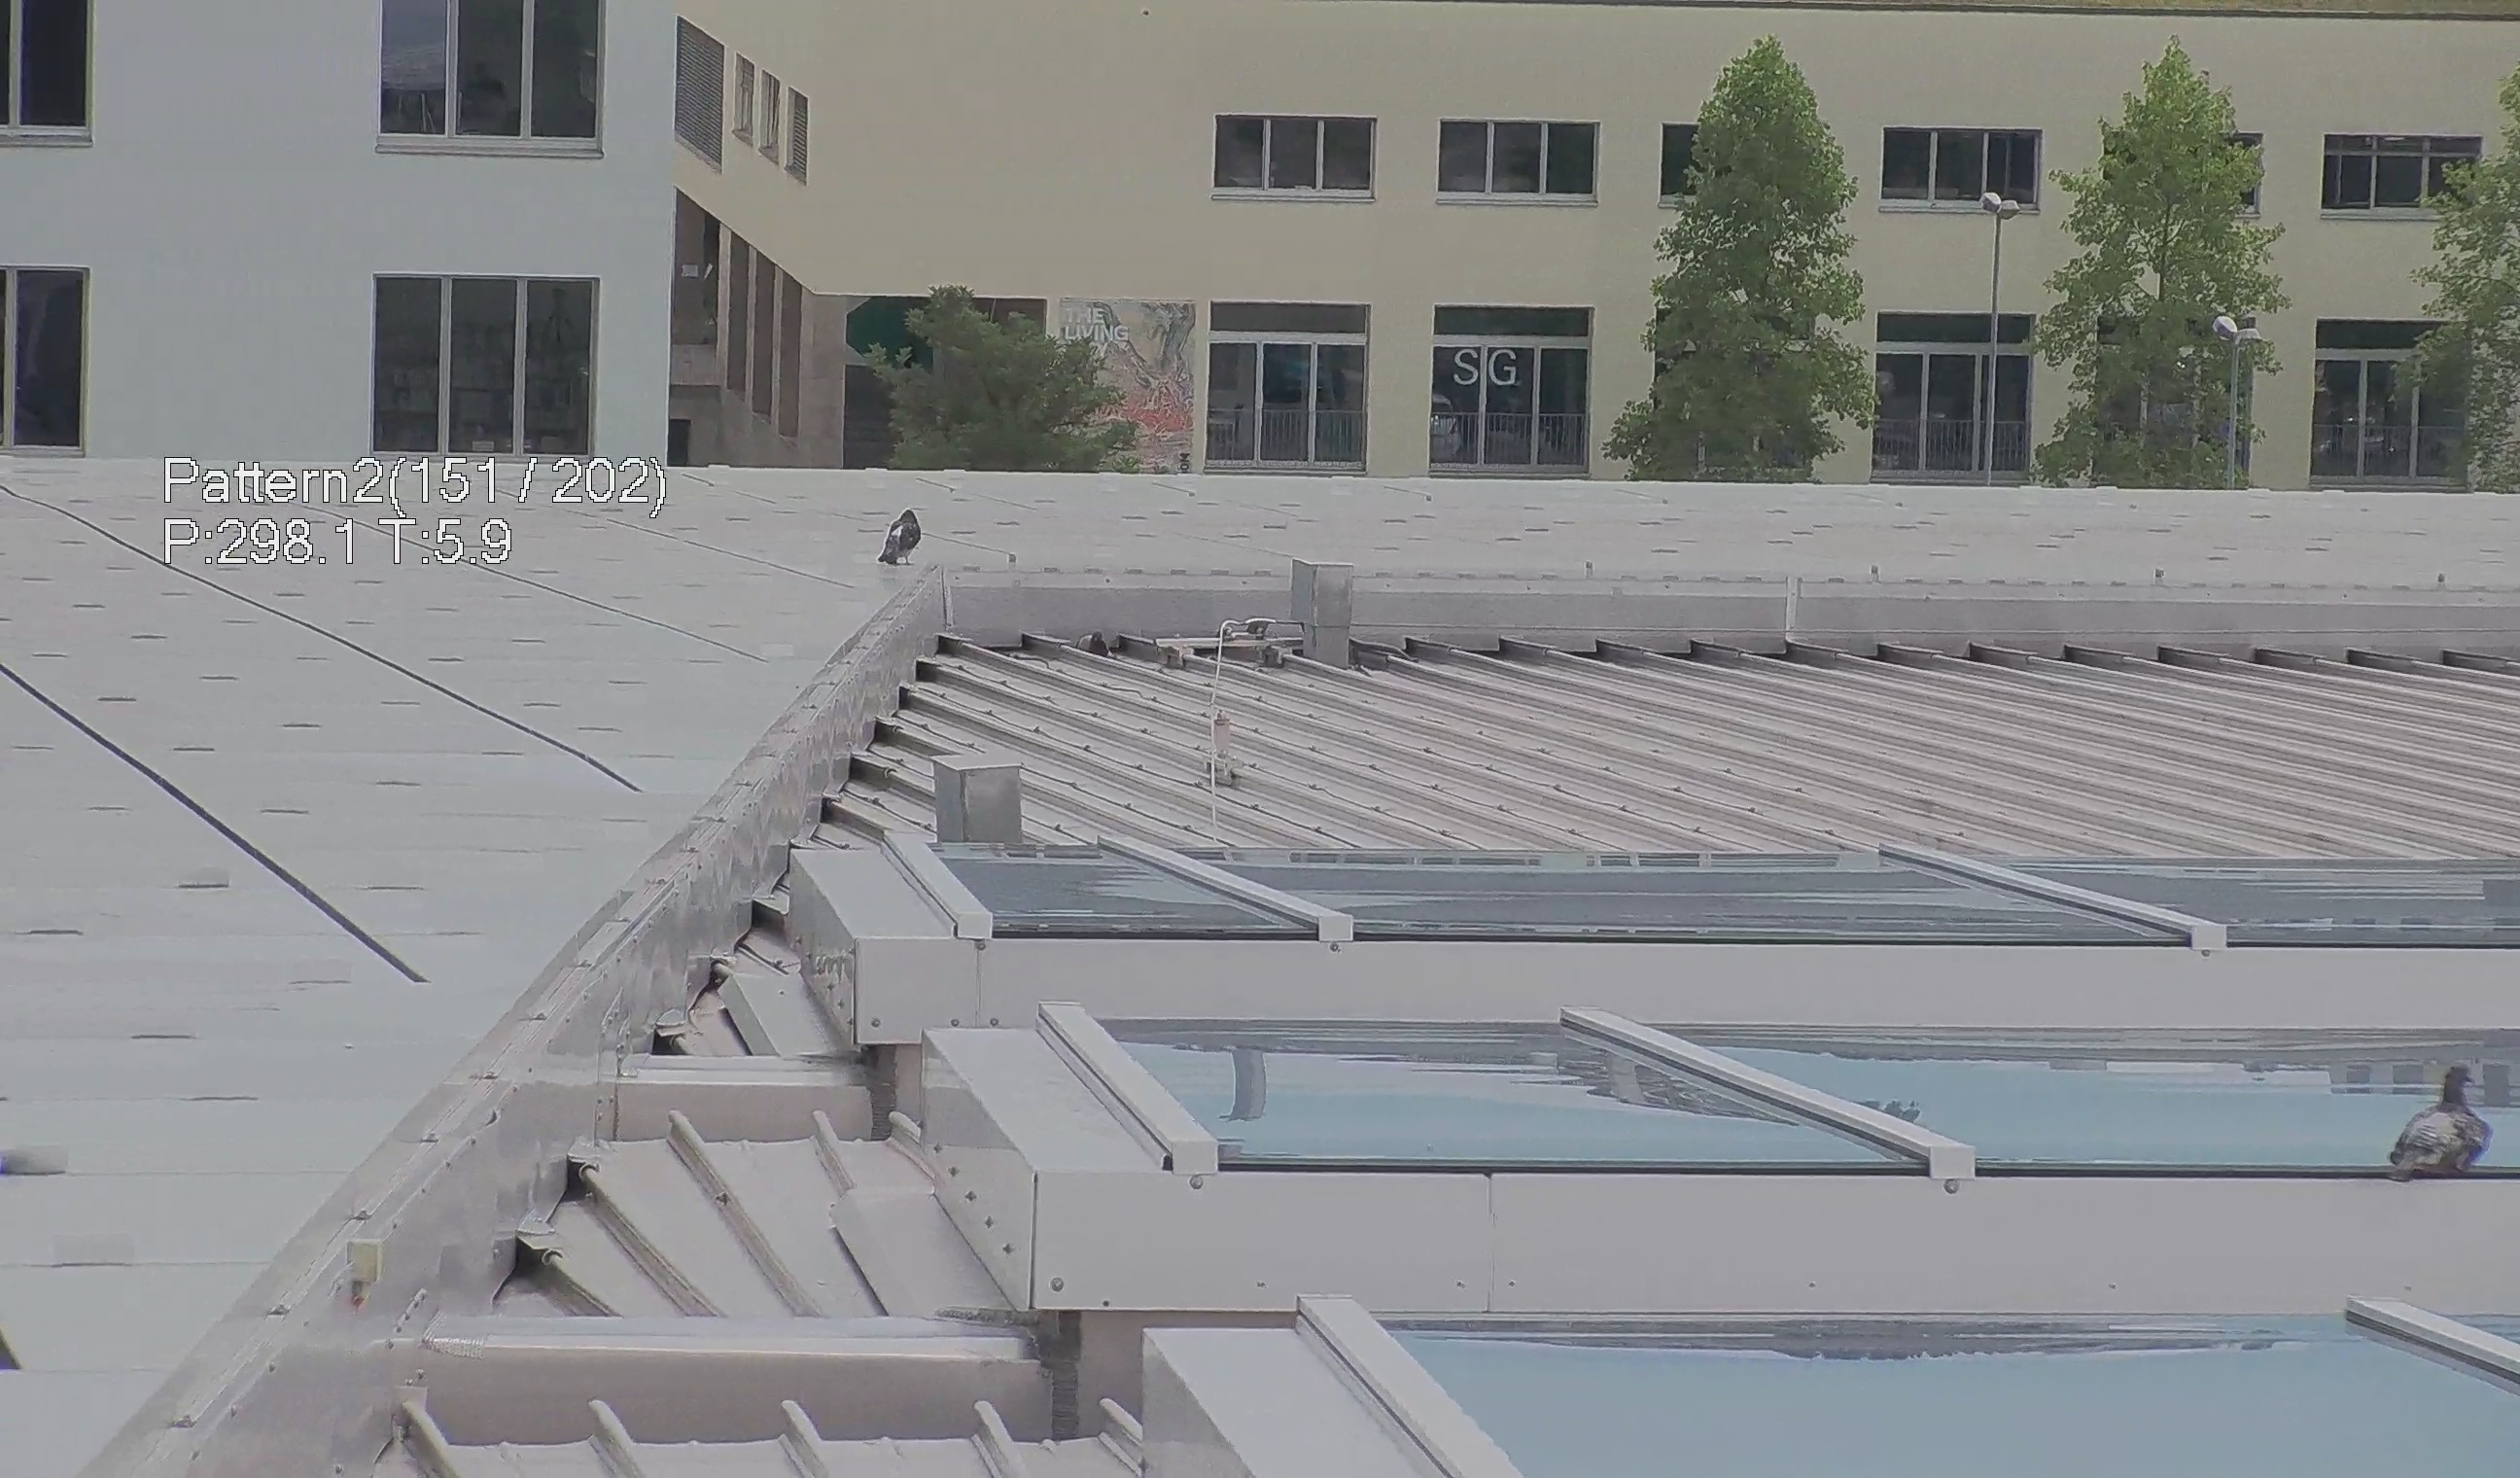Pigeon: (2390, 1061, 2508, 1193), (872, 501, 927, 572), (1062, 625, 1115, 662)
